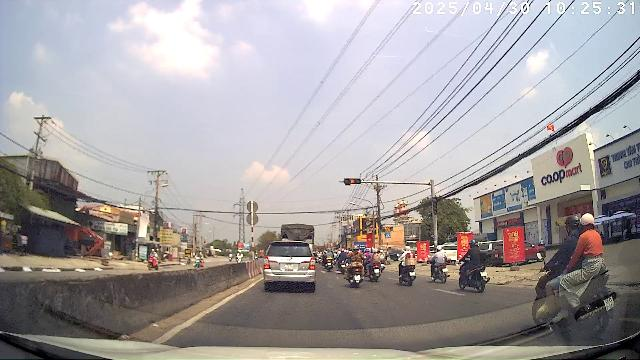423a-duong-nguoi-di-bo-sang-ngang-1: (385, 232, 391, 238)
